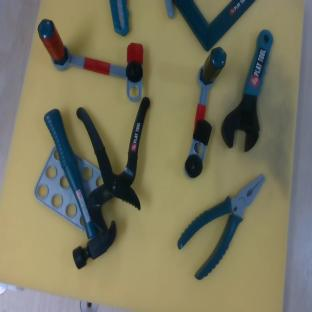non_pass: (178, 44, 228, 180)
pass: (26, 17, 154, 102)
